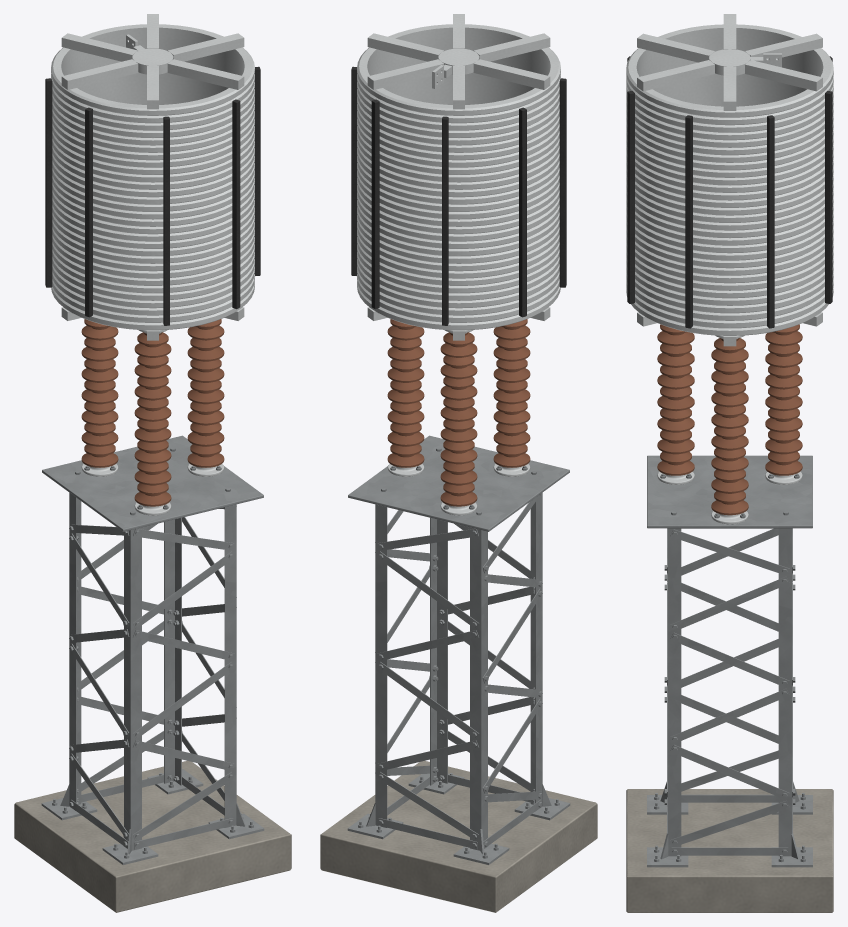
The model's file is LineTrap_138kV.fbx.
3 views of the same model, side by side, from view 1: azimuth 30°, elevation 25°; view 2: azimuth 150°, elevation 25°; view 3: azimuth 270°, elevation 25° (orthographic).
Visible parts, largest first — view 1: Body_Aluminium_LOD0, Body_GalvanizedSteel_LOD0, Body_Concrete_LOD0, Body_PorcelainBrown_LOD0, Body_RubberBlack_LOD0; view 2: Body_Aluminium_LOD0, Body_GalvanizedSteel_LOD0, Body_Concrete_LOD0, Body_PorcelainBrown_LOD0, Body_RubberBlack_LOD0; view 3: Body_Aluminium_LOD0, Body_GalvanizedSteel_LOD0, Body_Concrete_LOD0, Body_PorcelainBrown_LOD0, Body_RubberBlack_LOD0.
Boxes of the visible parts, box(x1,y1,x2,y2) form: Body_Aluminium_LOD0: box(51, 14, 254, 515); Body_GalvanizedSteel_LOD0: box(41, 435, 264, 864); Body_Concrete_LOD0: box(14, 760, 291, 912); Body_PorcelainBrown_LOD0: box(81, 319, 224, 506); Body_RubberBlack_LOD0: box(45, 66, 260, 325); Body_Aluminium_LOD0: box(357, 14, 560, 515); Body_GalvanizedSteel_LOD0: box(347, 435, 570, 864); Body_Concrete_LOD0: box(320, 760, 597, 912); Body_PorcelainBrown_LOD0: box(387, 319, 530, 506); Body_RubberBlack_LOD0: box(351, 66, 566, 325); Body_Aluminium_LOD0: box(626, 14, 833, 524); Body_GalvanizedSteel_LOD0: box(647, 455, 812, 867); Body_Concrete_LOD0: box(626, 789, 833, 912); Body_PorcelainBrown_LOD0: box(657, 324, 802, 515); Body_RubberBlack_LOD0: box(627, 56, 832, 328).
Size of what is drawn, in the model's own units: 1 by 4.34 by 1.
